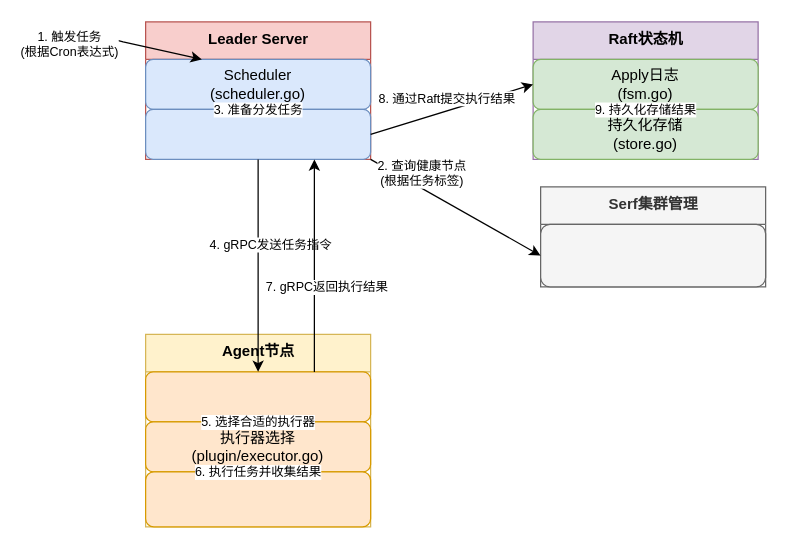
The diagram is 789 pixels wide and 549 high, and some of its shapes have lost their labels. Each missing label, with the centre of its shape:
gRPC Client (grpc_agent.go): pixel 257 133
gRPC Server (agent.go): pixel 257 396
健康Agent列表和标签 (serf.go): pixel 652 255
执行结果 (execution.go): pixel 257 499
